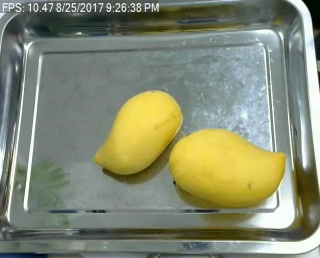Mango: (171, 126, 286, 208), (89, 90, 182, 176)
